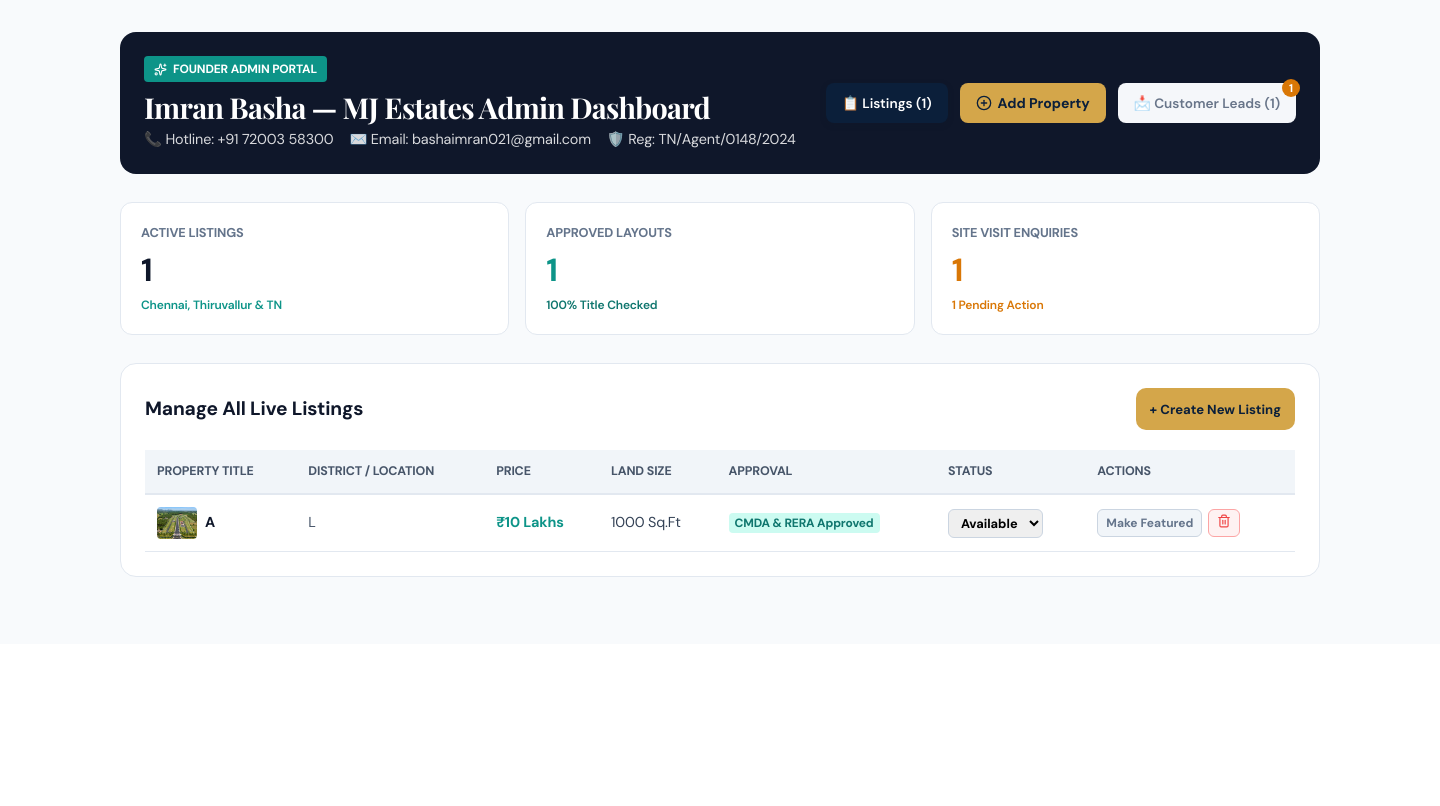
Test: AdminPortal buttons › tab buttons and create listing button work
The width and height of the screenshot is (1440, 806).
Click the button "Add Property" at (1033, 103), box [960,83,1106,123]
(page scrolled)
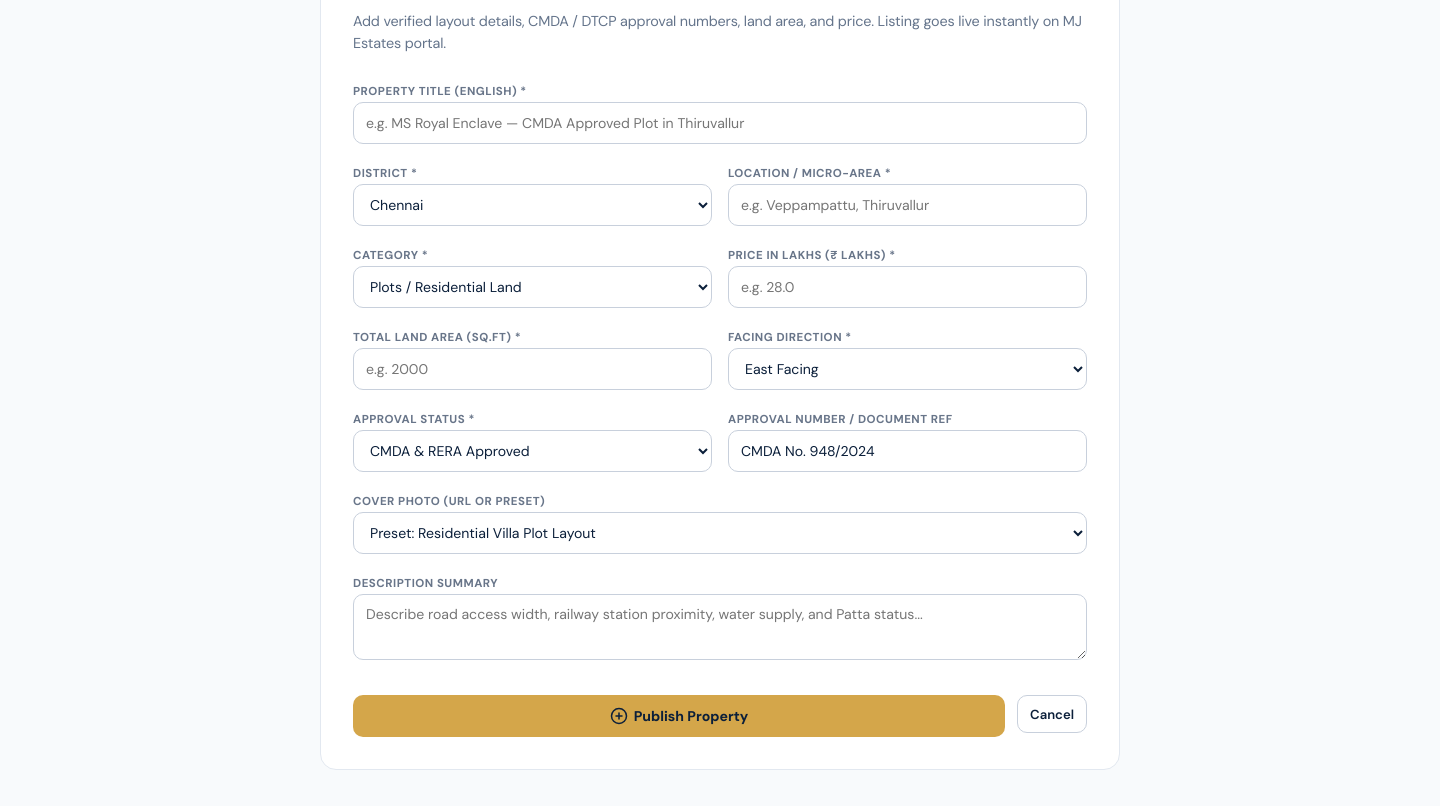
Now the button "Publish Property" is shown, box [353,695,1005,737]
